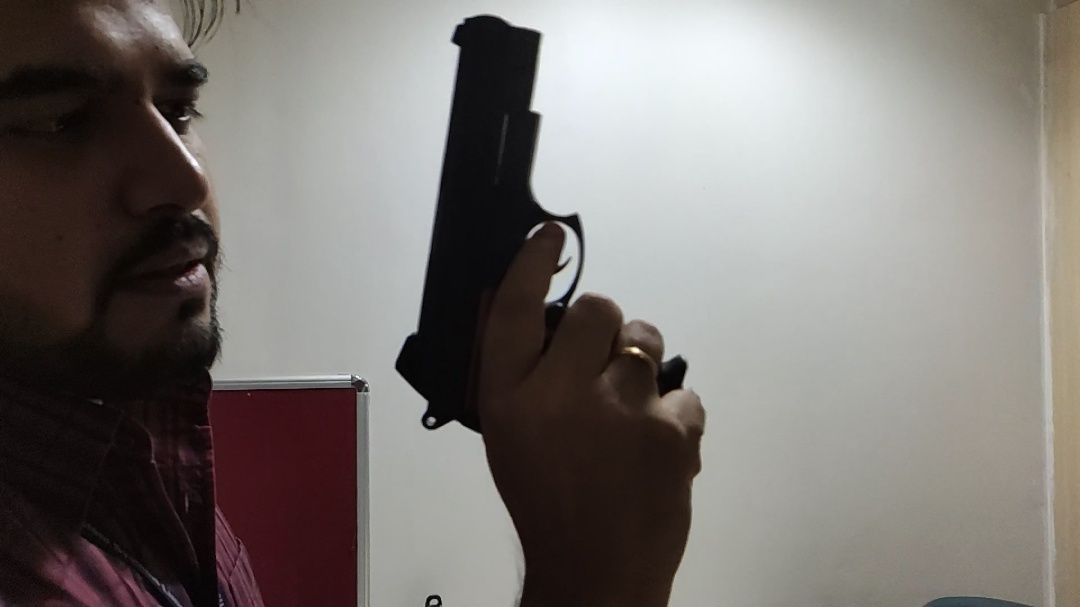gun: (328, 180, 739, 545)
